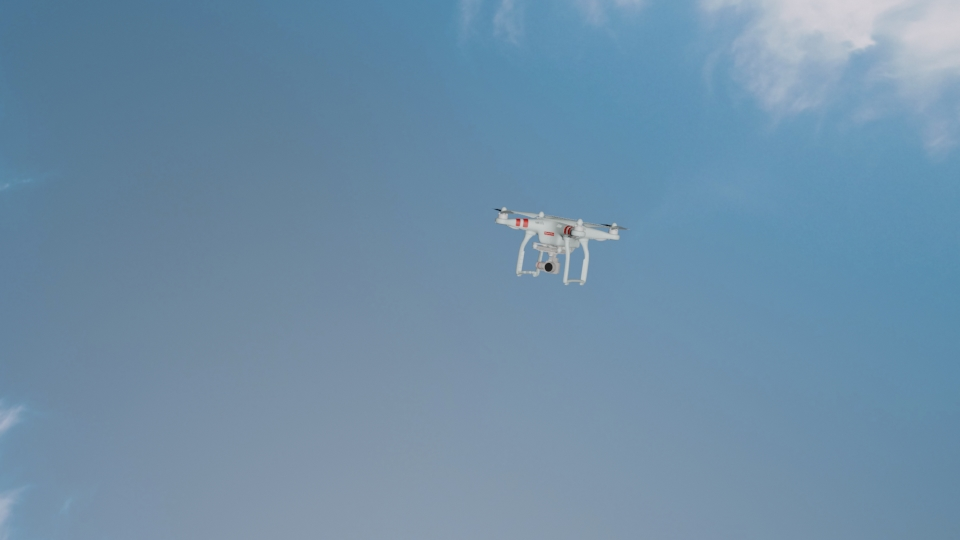drone: (488, 208, 624, 284)
